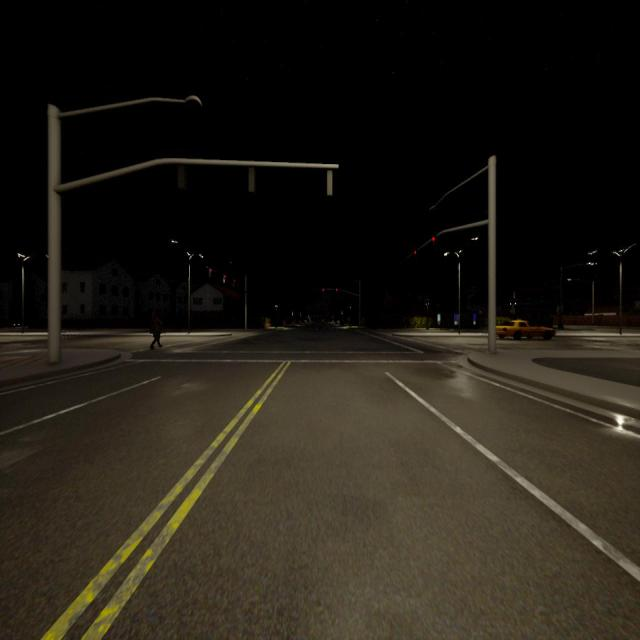Pedestrian: (151, 312, 162, 348)
Vehicle: (496, 320, 553, 339)
traffic_light: (178, 165, 185, 188), (248, 166, 254, 192), (327, 169, 332, 195), (209, 269, 212, 277), (223, 275, 226, 282), (432, 236, 435, 241), (233, 280, 235, 286), (414, 250, 416, 254), (322, 288, 324, 292), (336, 288, 338, 292)
